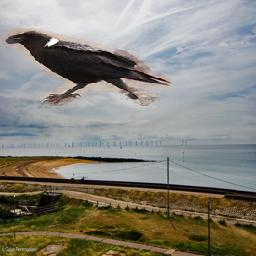Crow: (3, 28, 172, 106)
